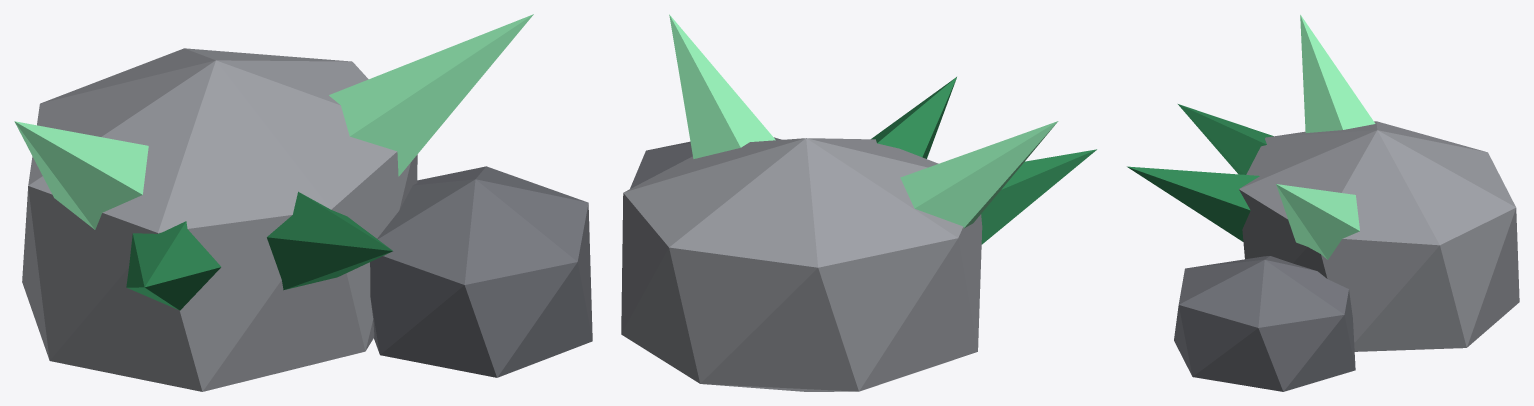
File: drop_ore_adamant.glb
3 renders of one model, left to right at view 1: azimuth 30°, elevation 25°; view 2: azimuth 150°, elevation 25°; view 3: azimuth 270°, elevation 25°, orthographic. The views are drawn at different scales.
Visible parts, largest first — view 1: drop_ore_adamant; view 2: drop_ore_adamant; view 3: drop_ore_adamant.
Boxes of the visible parts, <box> form: drop_ore_adamant: <box>14,14,592,391</box>; drop_ore_adamant: <box>621,14,1096,391</box>; drop_ore_adamant: <box>1127,14,1519,391</box>.
Size of the model in its own units: 0.3068 by 0.1933 by 0.2795.
